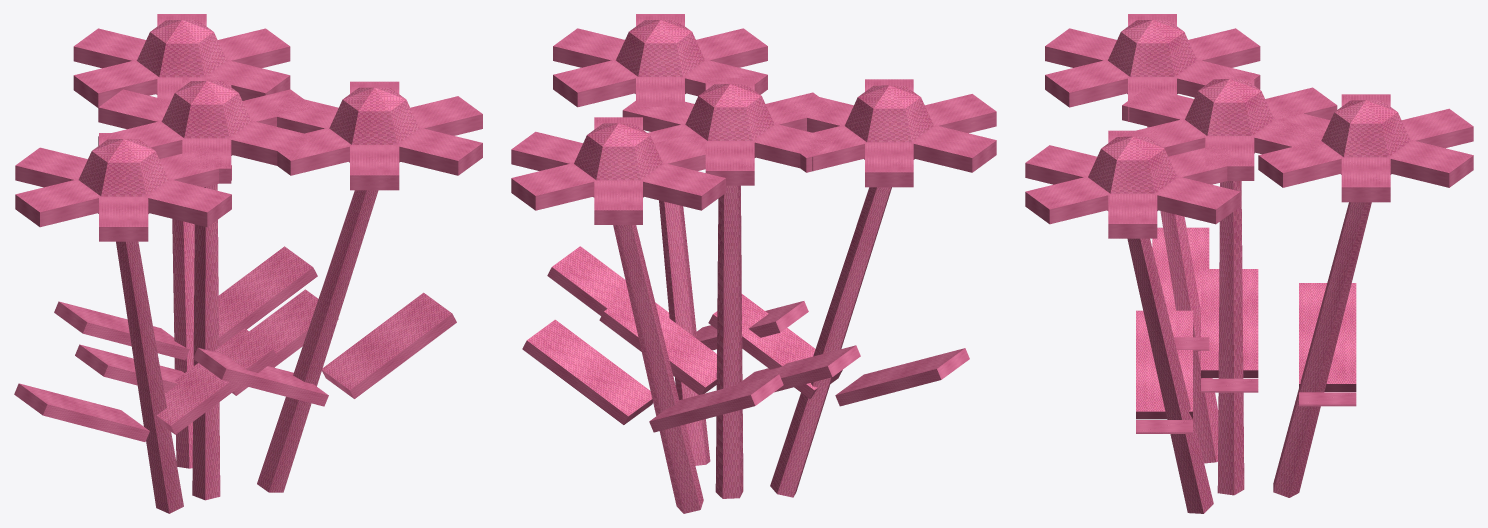
Rendered from buque_de_flores.glb.
The picture shows the model from 3 angles, left to right: view 1: azimuth 30°, elevation 25°; view 2: azimuth 150°, elevation 25°; view 3: azimuth 270°, elevation 25°; orthographic projection.
Visible parts, largest first — view 1: buque_de_flores; view 2: buque_de_flores; view 3: buque_de_flores.
Boxes of the visible parts, x1,y1,x2,y2 form: buque_de_flores: (14, 14, 482, 513); buque_de_flores: (511, 14, 996, 513); buque_de_flores: (1025, 14, 1473, 513).
Bounding box in the file's own units: 0.6085 × 0.555 × 0.5496.
1 material, 1 textured.
